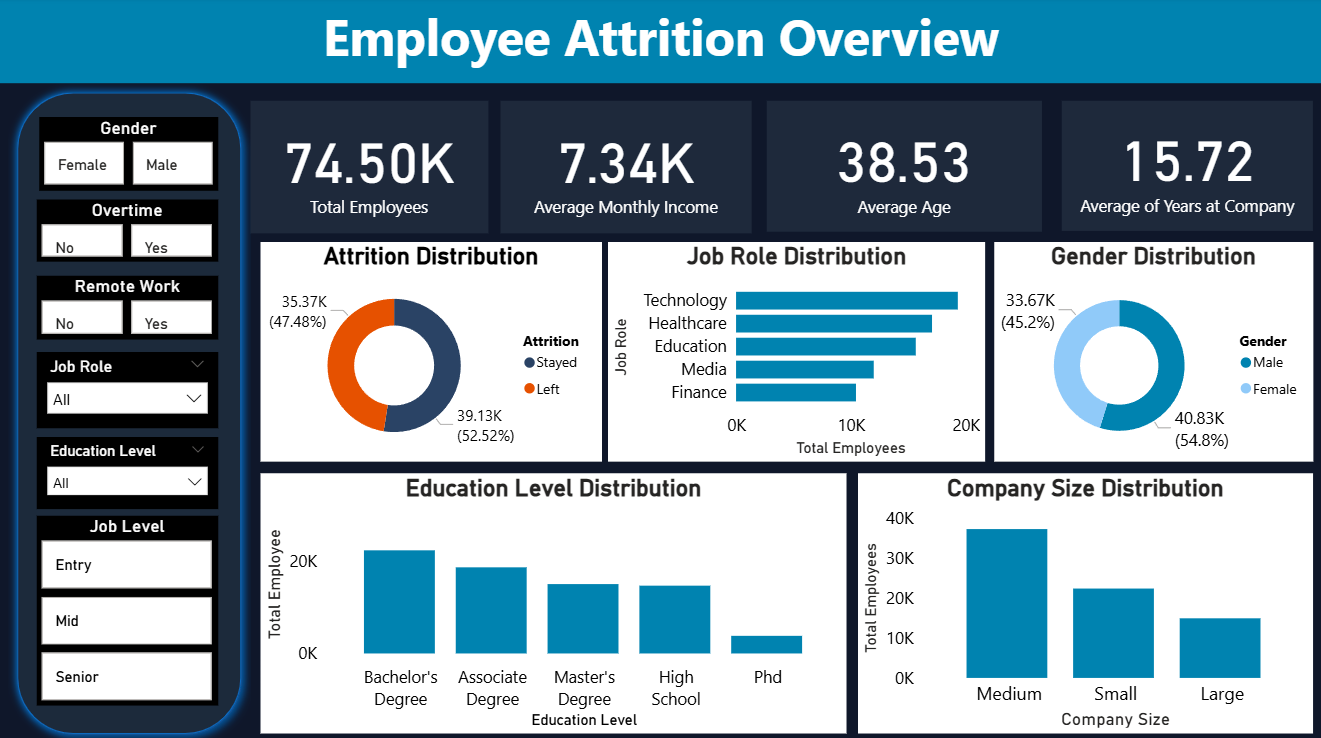

The page's visual inventory and layout, read from the dashboard file:
{"tool":"powerbi","page":{"name":"Overview","canvas":[1280,720],"ordinal":0},"visuals":[{"type":"textbox","box":[0,0,1280,83.2],"z":0},{"type":"card","fields":{"Values":["CountNonNull(public employee_attrition.Employee ID)"]},"box":[243.7,100.1,229.2,127.9],"z":1000},{"type":"card","fields":{"Values":["Avg(public employee_attrition.Monthly Income)"]},"box":[485,100.1,242.5,127.9],"z":2000},{"type":"card","fields":{"Values":["Avg(public employee_attrition.Age)"]},"box":[742,100.1,265.4,126.7],"z":3000},{"type":"card","fields":{"Values":["Avg(public employee_attrition.Years at Company)"]},"box":[1026.7,100.1,242.5,125.5],"z":4000},{"type":"donutChart","title":"Attrition Distribution","fields":{"Category":["public employee_attrition.Attrition"],"Y":["CountNonNull(public employee_attrition.Employee ID)"]},"box":[253.4,236.5,329.4,212.3],"z":5000},{"type":"barChart","title":"Job Role Distribution","fields":{"Category":["public employee_attrition.Job Role"],"Y":["CountNonNull(public employee_attrition.Employee ID)"]},"box":[588.7,236.5,364.3,212.3],"z":6000},{"type":"donutChart","title":"Gender Distribution","fields":{"Category":["public employee_attrition.Gender"],"Y":["CountNonNull(public employee_attrition.Employee ID)"]},"box":[961.5,236.5,307.6,212.3],"z":7000},{"type":"columnChart","title":"Education Level Distribution","fields":{"Category":["public employee_attrition.Education Level"],"Y":["CountNonNull(public employee_attrition.Employee ID)"]},"box":[253.4,459.7,565.8,250.9],"z":8000},{"type":"columnChart","title":"Company Size Distribution","fields":{"Category":["public employee_attrition.Company Size"],"Y":["CountNonNull(public employee_attrition.Employee ID)"]},"box":[830,459.7,439.1,250.9],"z":9000},{"type":"shape","box":[9.7,83.2,234,637],"z":10000},{"type":"advancedSlicerVisual","fields":{"Values":["public employee_attrition.Gender"]},"box":[39.8,115.8,172.5,71.2],"z":11000},{"type":"advancedSlicerVisual","title":"Job Level","fields":{"Values":["public employee_attrition.Job Level"]},"box":[37.4,500.7,174.9,183.4],"z":12000},{"type":"advancedSlicerVisual","title":"Overtime","fields":{"Values":["public employee_attrition.Overtime"]},"box":[37.4,195.4,174.9,60.3],"z":13000},{"type":"advancedSlicerVisual","title":"Remote Work","fields":{"Values":["public employee_attrition.Remote Work"]},"box":[37.4,269,174.9,61.5],"z":14000},{"type":"slicer","fields":{"Values":["public employee_attrition.Job Role"]},"box":[37.4,342.6,174.9,73.6],"z":15000},{"type":"slicer","fields":{"Values":["public employee_attrition.Education Level"]},"box":[37.4,424.7,174.9,70],"z":16000}]}

Visuals, with their boxes in screenshot pixels (x1, y1, x2, y2), scaled from the page's 1280x720 canvas onto the 1321x738 screenshot:
textbox: (0,0,1320,85)
card - CountNonNull(public employee_attrition.Employee ID): (252,103,488,234)
card - Avg(public employee_attrition.Monthly Income): (501,103,751,234)
card - Avg(public employee_attrition.Age): (766,103,1040,232)
card - Avg(public employee_attrition.Years at Company): (1060,103,1310,231)
"Attrition Distribution" donutChart: (262,242,601,460)
"Job Role Distribution" barChart: (608,242,984,460)
"Gender Distribution" donutChart: (992,242,1310,460)
"Education Level Distribution" columnChart: (262,471,845,728)
"Company Size Distribution" columnChart: (857,471,1310,728)
shape: (10,85,252,737)
advancedSlicerVisual - public employee_attrition.Gender: (41,119,219,192)
"Job Level" advancedSlicerVisual: (39,513,219,701)
"Overtime" advancedSlicerVisual: (39,200,219,262)
"Remote Work" advancedSlicerVisual: (39,276,219,339)
slicer - public employee_attrition.Job Role: (39,351,219,427)
slicer - public employee_attrition.Education Level: (39,435,219,507)
